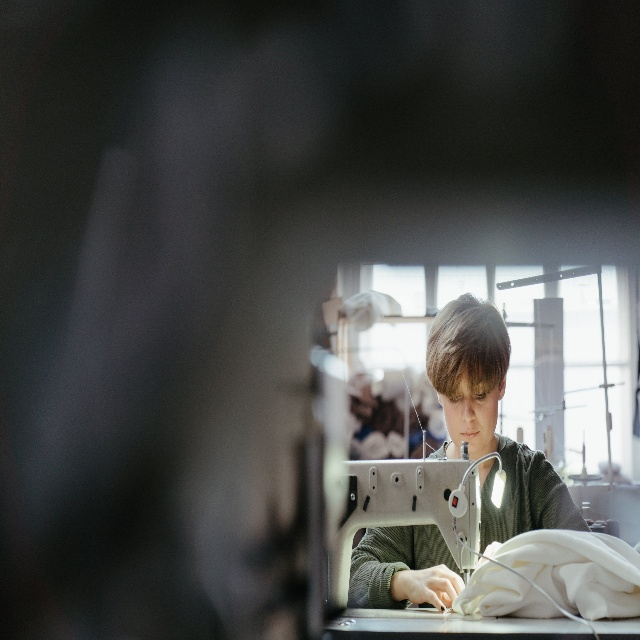Sin_guantes: (404, 563, 465, 613)
